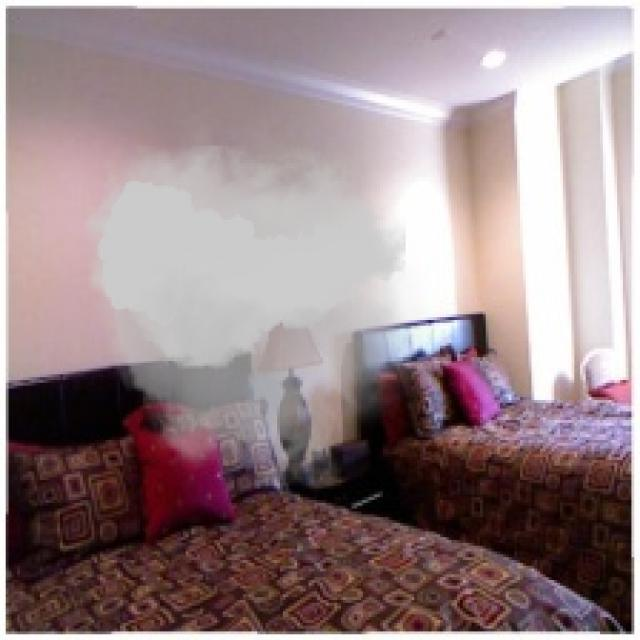smoke: (74, 114, 429, 509)
